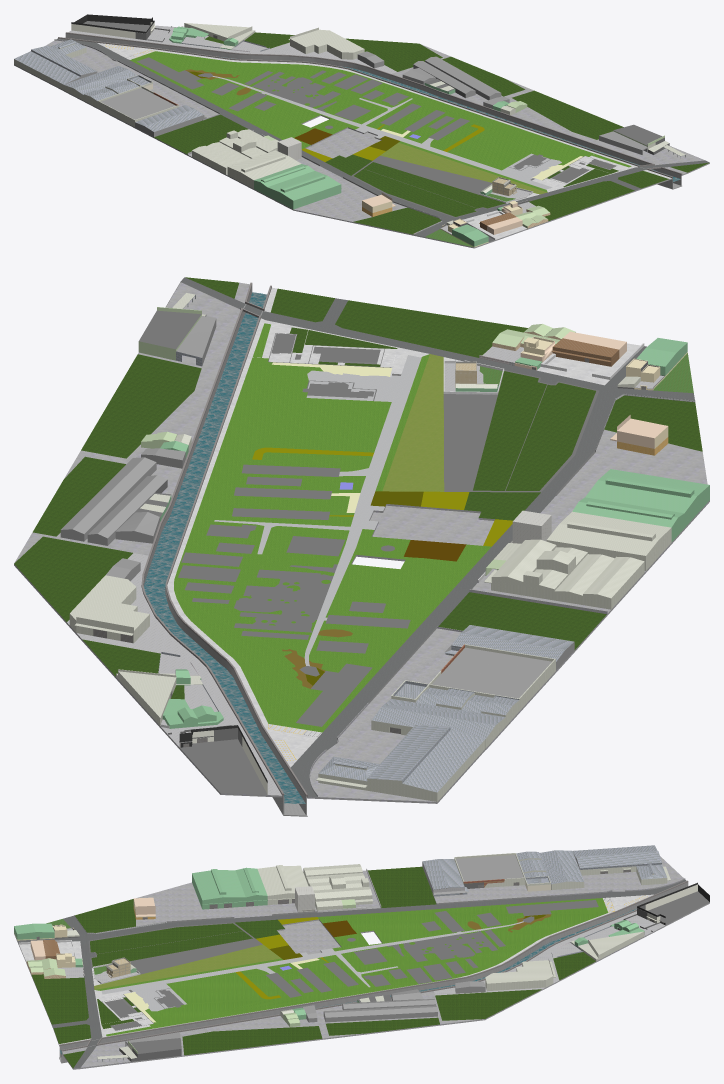
File: 周遭建物.gltf
3 views of the same model, one above another, from view 1: azimuth 30°, elevation 25°; view 2: azimuth 150°, elevation 25°; view 3: azimuth 270°, elevation 25° (orthographic). The views are drawn at different scales.
Bounding box in the file's own units: 405 × 25.5 × 547.
51 materials, 35 textured.
